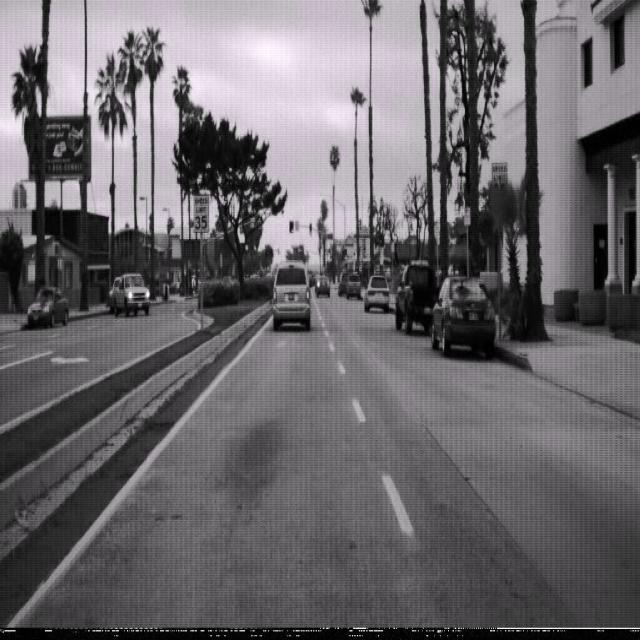speedLimit35: (192, 192, 210, 233)
